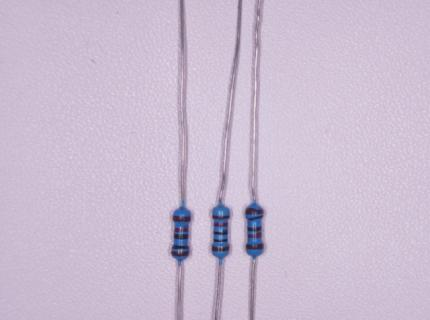Black band: (172, 244, 190, 249), (247, 216, 262, 221), (174, 234, 188, 239), (214, 230, 228, 235), (248, 226, 262, 231), (214, 238, 228, 242)
Brown band: (212, 246, 230, 252), (173, 216, 191, 222), (246, 209, 264, 215), (171, 251, 189, 256), (246, 244, 264, 249), (212, 215, 230, 219)
Red band: (248, 233, 262, 239), (213, 222, 228, 227), (175, 228, 188, 232)
